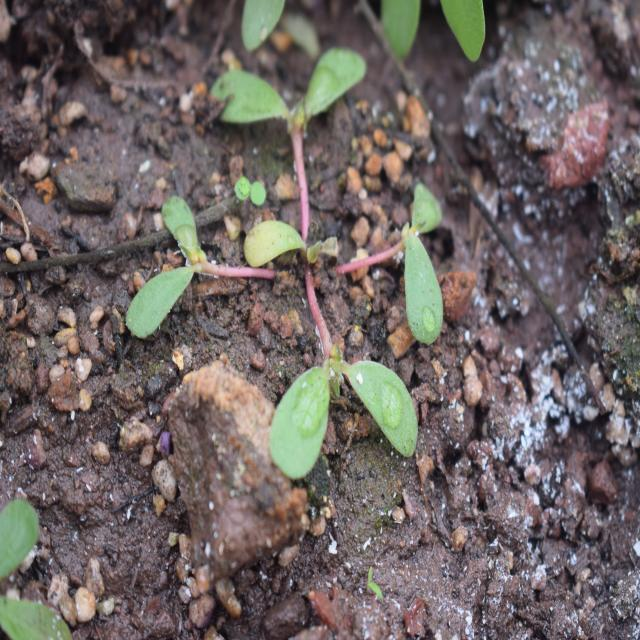purslane: (142, 45, 451, 468)
